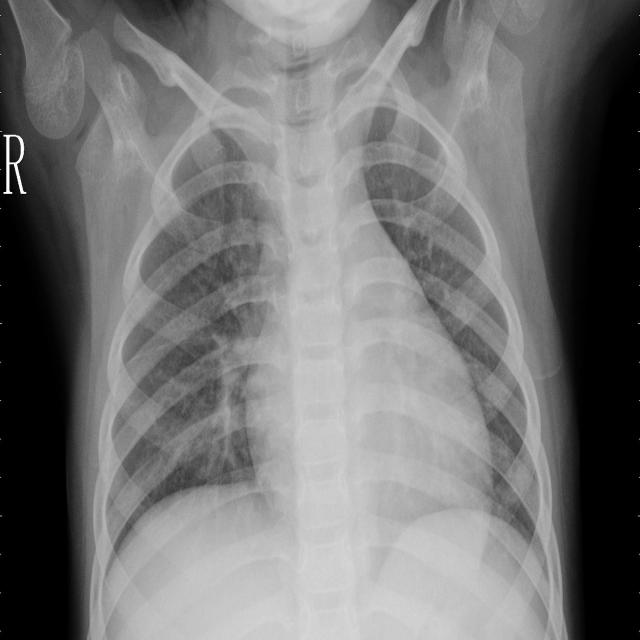low-pneumonia: (196, 320, 247, 471)
